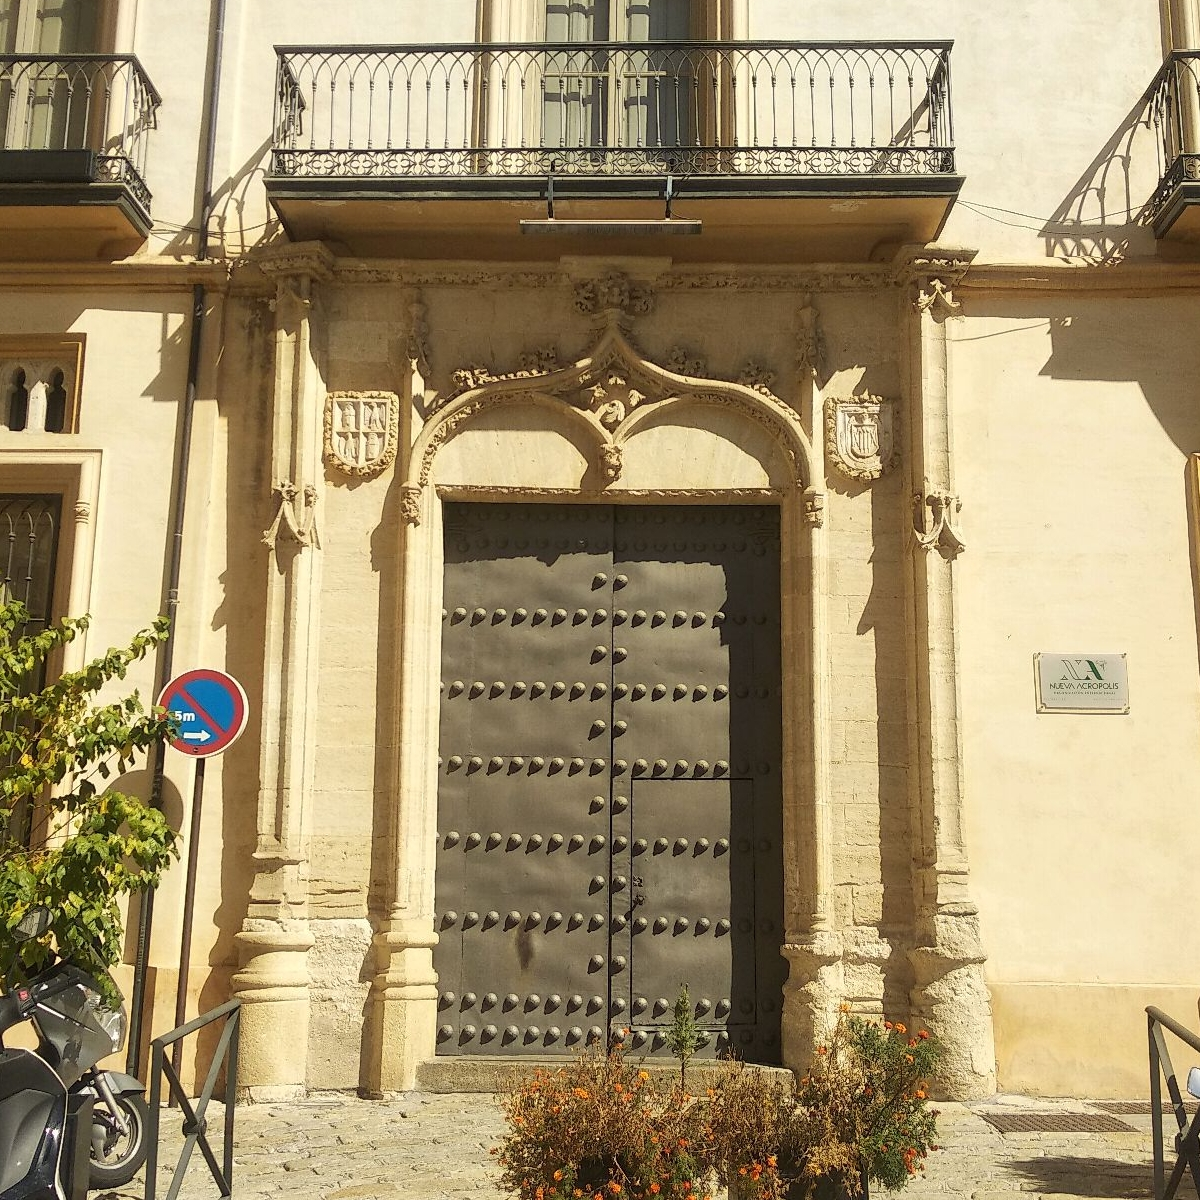arco-conopial: (399, 313, 812, 495)
